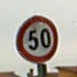limite 50: (14, 13, 59, 63)
